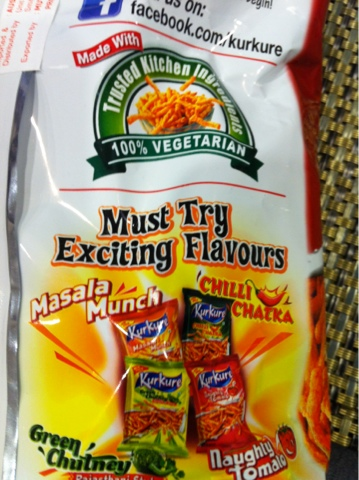kurkure: (141, 372, 183, 412), (198, 372, 240, 396), (194, 307, 229, 331), (122, 325, 181, 339)
plastic: (20, 20, 310, 468)
